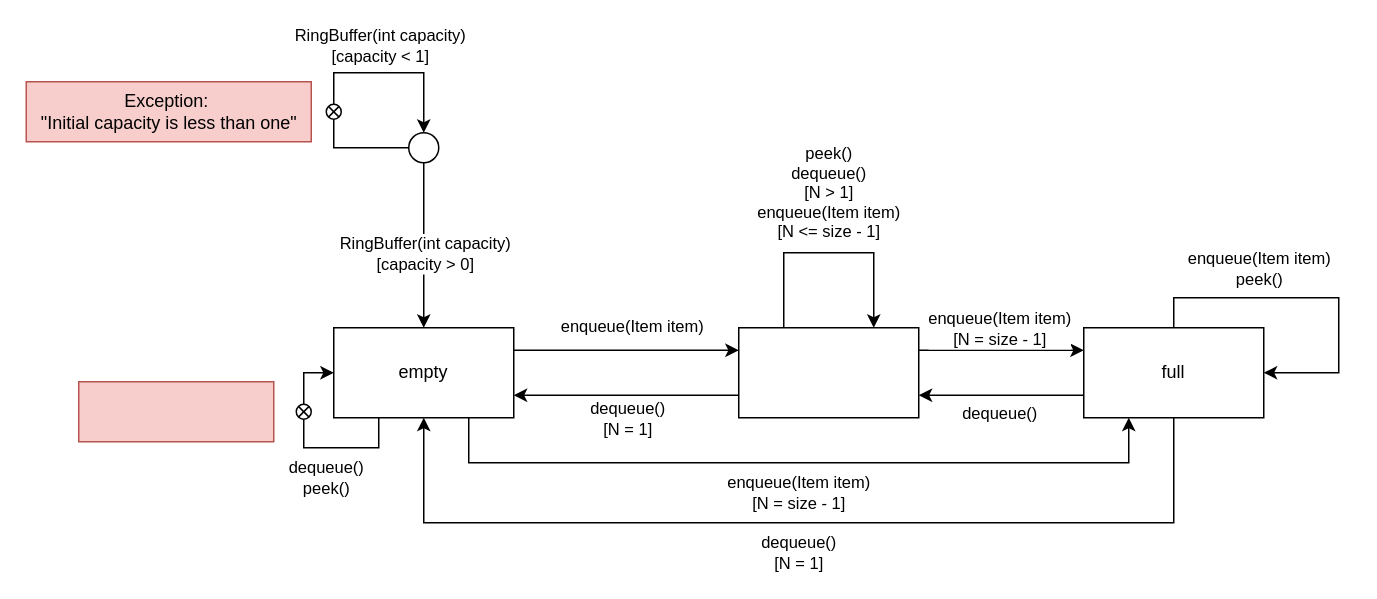
Image size: 1377x599. Some labels were removed from this diagram. Each missing label, with the centre of its shape:
Exception: "Empty ring buffer.": (175,411)
filled: (828,372)
